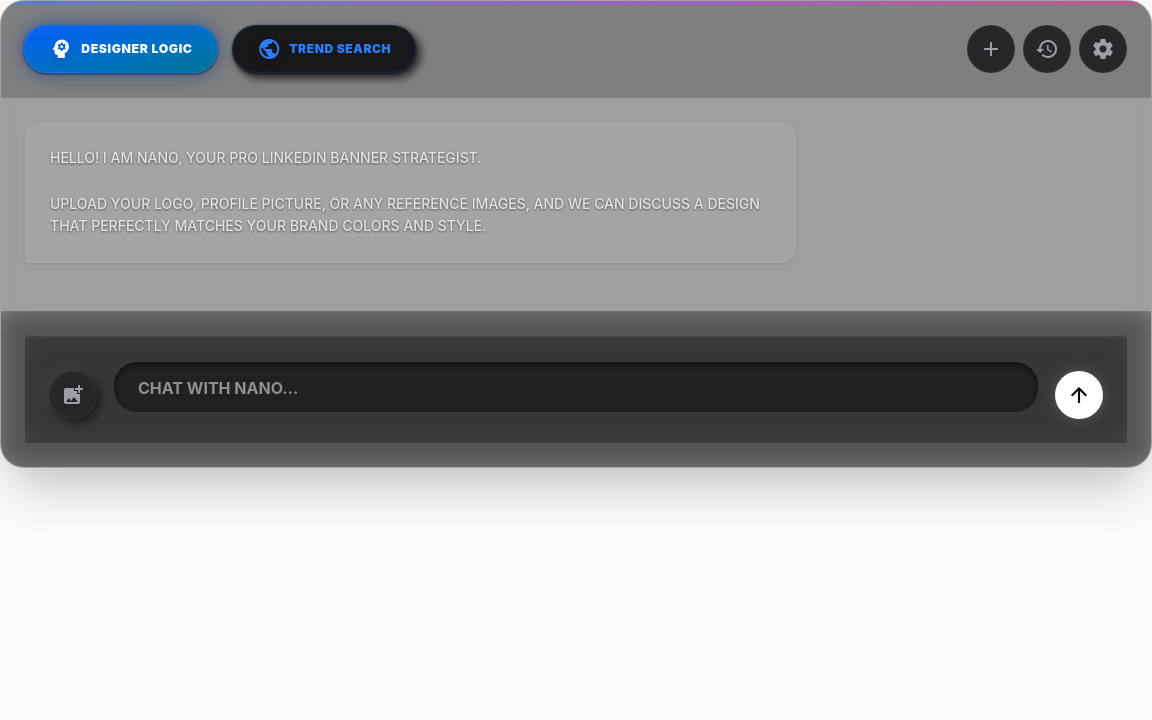
ChatInterface › Error Handling › should show quota exceeded error on 429 rate limit
The width and height of the screenshot is (1152, 720).
Type "Test message" into the text box with placeholder "CHAT WITH NANO..." at (576, 387), box [113,361,1039,413]
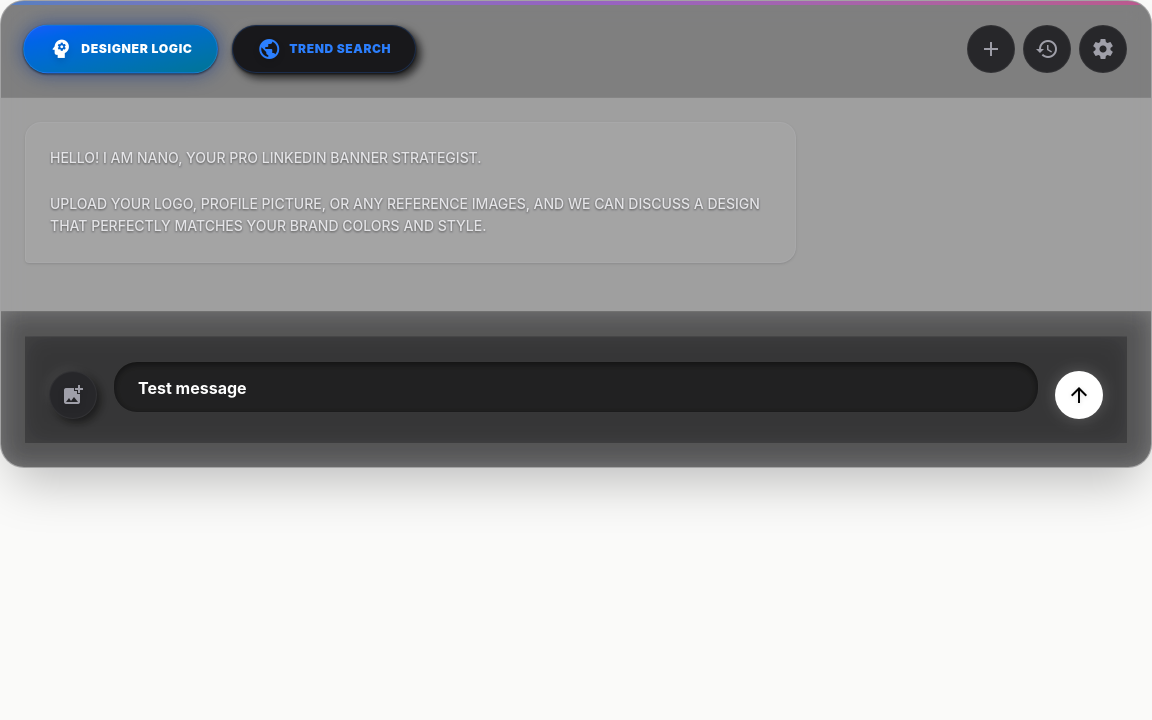
Click the 7th button at (1079, 395), box [1055,371,1103,419]
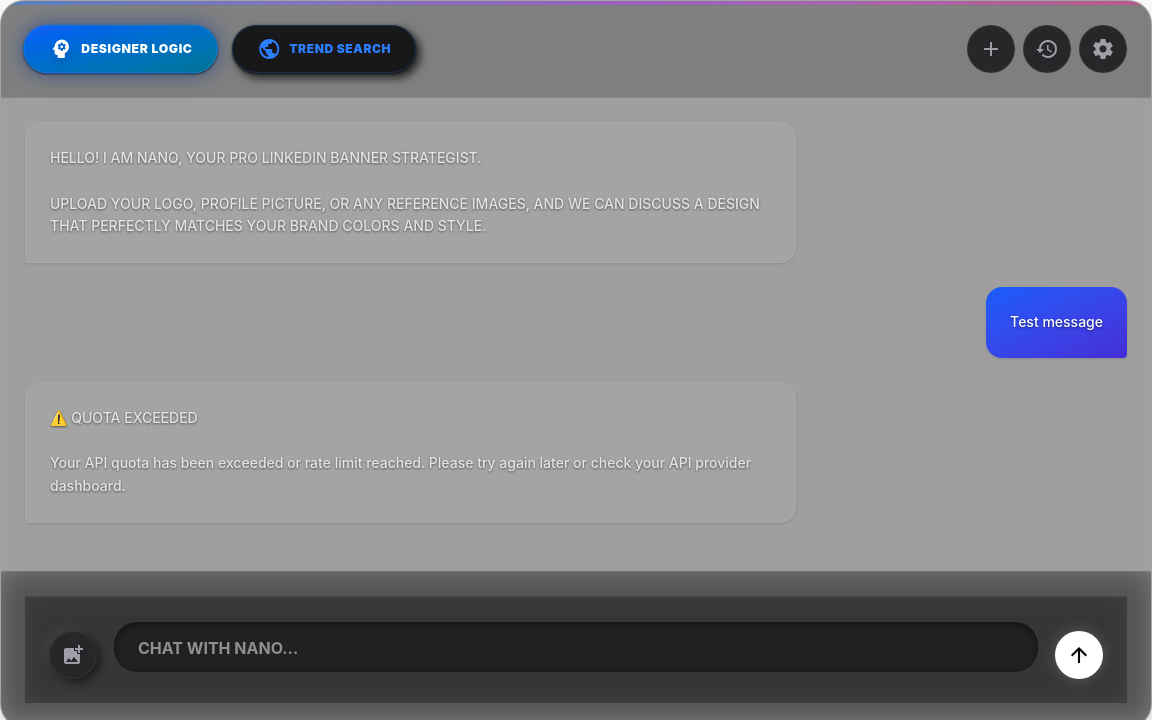
Expected: the text "QUOTA EXCEEDED" is shown, [50,409,755,494]
